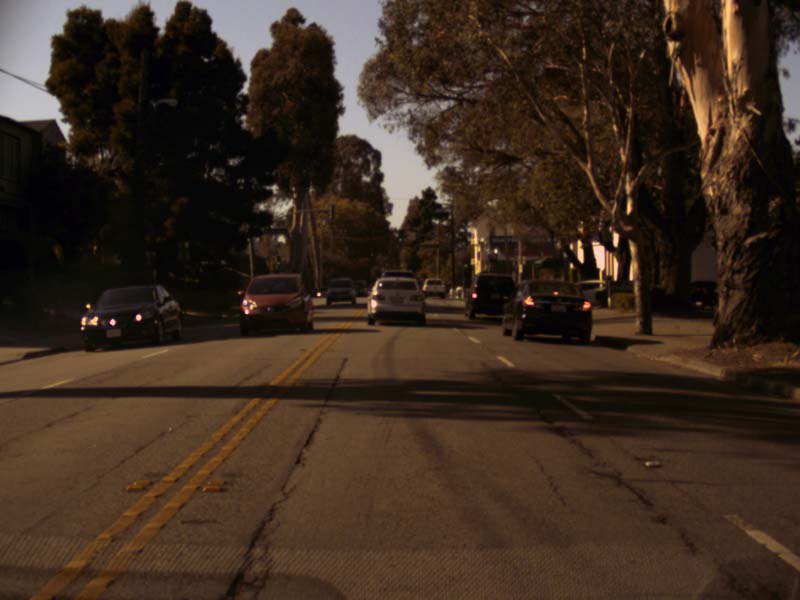Green: (462, 258, 469, 272), (398, 230, 403, 242), (277, 256, 280, 267)
